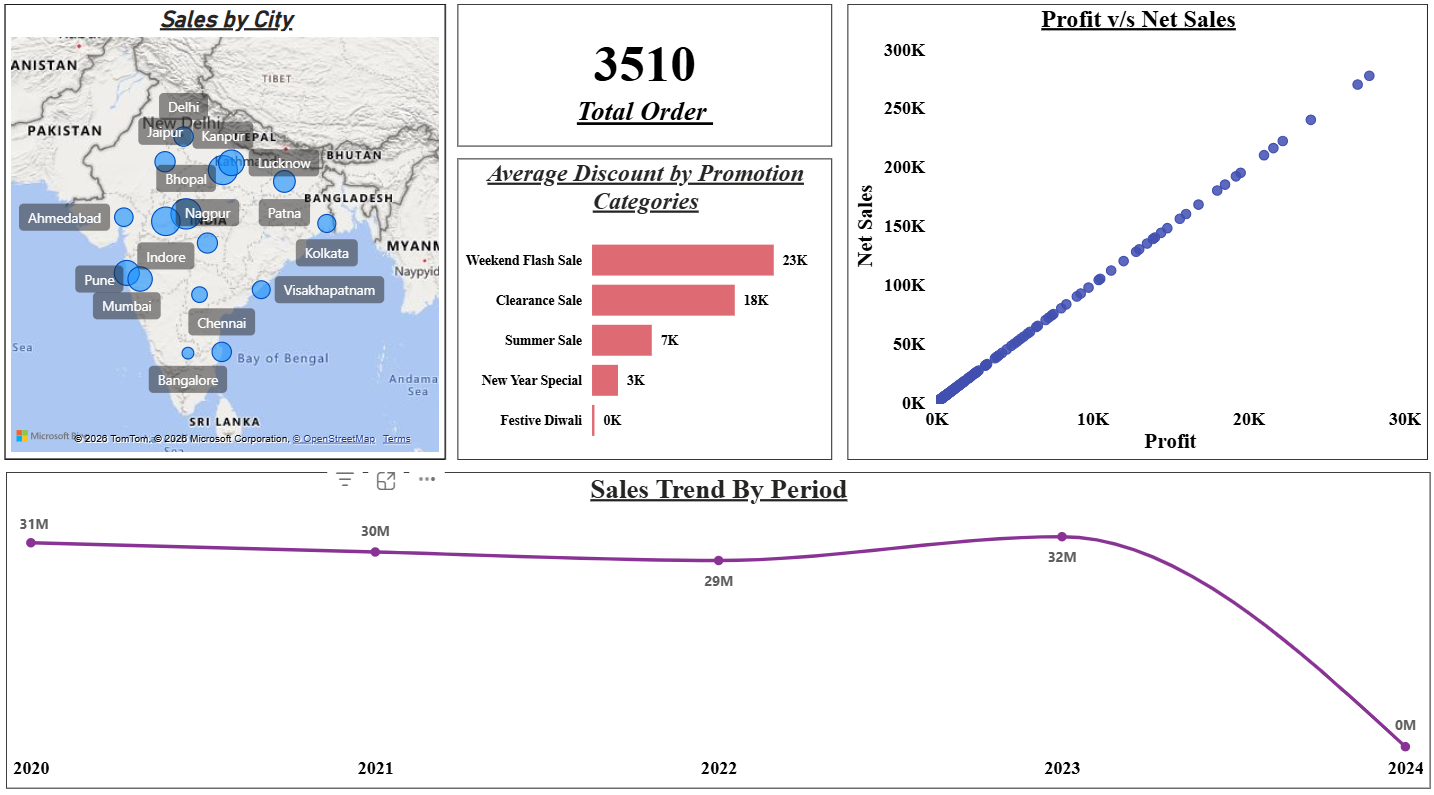

What the dashboard file says about the page in this screenshot:
{"tool":"powerbi","page":{"name":"Overview","canvas":[1280,720],"ordinal":0},"visuals":[{"type":"lineChart","title":"Sales Trend By Period","fields":{"Y":["Sum(Fact Table.Net Sales)"],"Category":["Date Table 1.Date.Variation.Date Hierarchy.Year","Date Table 1.Date.Variation.Date Hierarchy.Quarter","Date Table 1.Date.Variation.Date Hierarchy.Month","Date Table 1.Date.Variation.Date Hierarchy.Day"]},"box":[10.6,424,1259.8,280.1],"z":0},{"type":"scatterChart","title":"Profit v/s Net Sales","fields":{"X":["Fact Table.Profit"],"Y":["Fact Table.Net Sales"]},"box":[754.5,10.6,513.6,403],"z":1000},{"type":"barChart","title":"Average Discount by Promotion Categories","fields":{"Y":["Avg(Fact Table.Discount Value)"],"Category":["Dim Promotion.Promotion Name"]},"box":[410.3,146.9,331.6,266.5],"z":2000},{"type":"map","title":"Sales by City","fields":{"Category":["Dim Customers.City"],"Size":["Sum(Fact Table.Net Sales)"]},"box":[9.1,10.6,390.7,402.8],"z":3000},{"type":"card","fields":{"Values":["Count(Fact Table.Order ID)"]},"box":[410.3,10.6,331.6,125.7],"z":4000}]}

Visuals, with their boxes in screenshot pixels (x1, y1, x2, y2), scaled from the page's 1280x720 canvas onto the 1434x795 screenshot:
"Sales Trend By Period" lineChart: crop(12, 468, 1423, 777)
"Profit v/s Net Sales" scatterChart: crop(845, 12, 1421, 457)
"Average Discount by Promotion Categories" barChart: crop(460, 162, 831, 456)
"Sales by City" map: crop(10, 12, 448, 456)
card - Count(Fact Table.Order ID): crop(460, 12, 831, 150)
